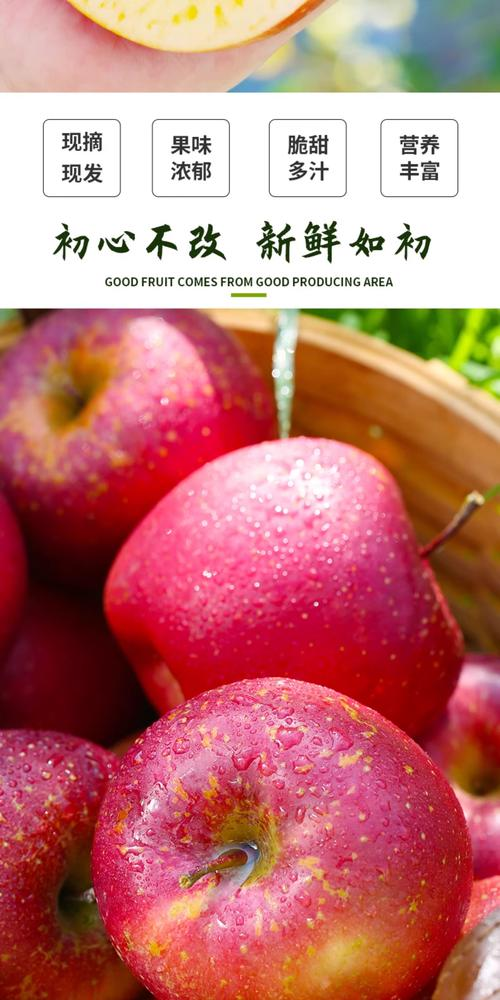ripe: (69, 684, 469, 1000), (99, 426, 485, 753), (0, 306, 314, 615)
